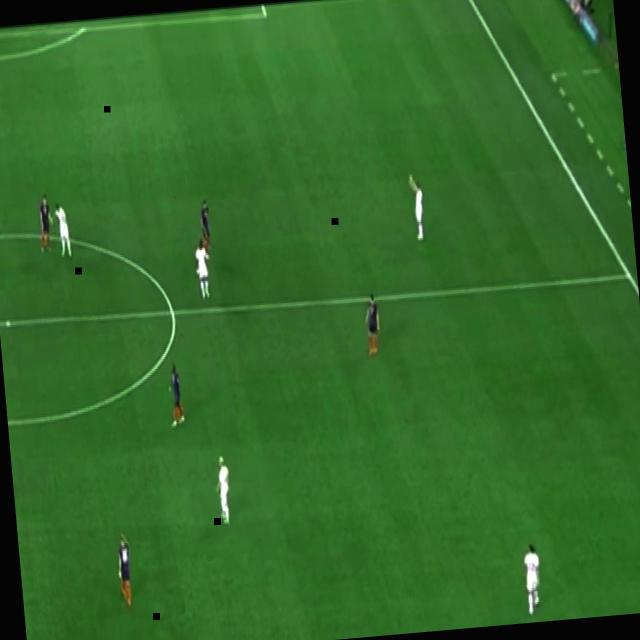player-white: (520, 536, 548, 622), (113, 526, 139, 612), (211, 453, 236, 532), (162, 357, 188, 431), (405, 167, 429, 247), (34, 188, 58, 260), (48, 196, 74, 262), (362, 289, 386, 359), (192, 238, 214, 304), (197, 195, 217, 258)
